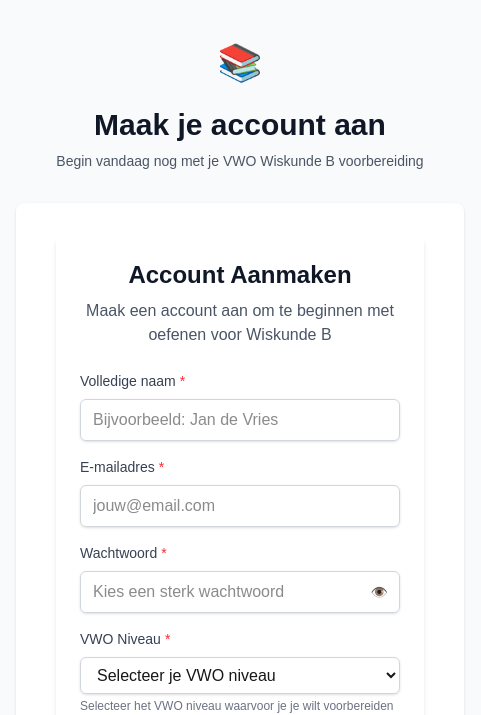
Test: RegisterPage › handles network errors gracefully
Fill out the form
Type "Test User" into the field labelled "Volledige naam*".
click(240, 420); type("Test User")  # box [80,399,400,441]
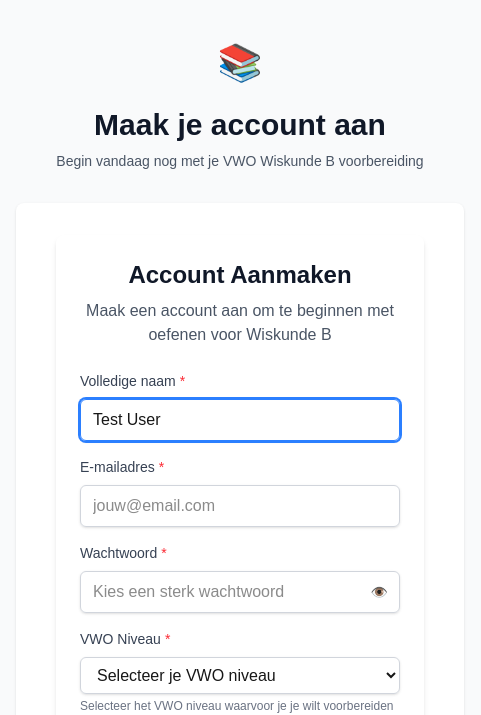
Type "test@example.com" into the field labelled "E-mailadres*".
click(240, 506); type("test@example.com")  # box [80,485,400,527]
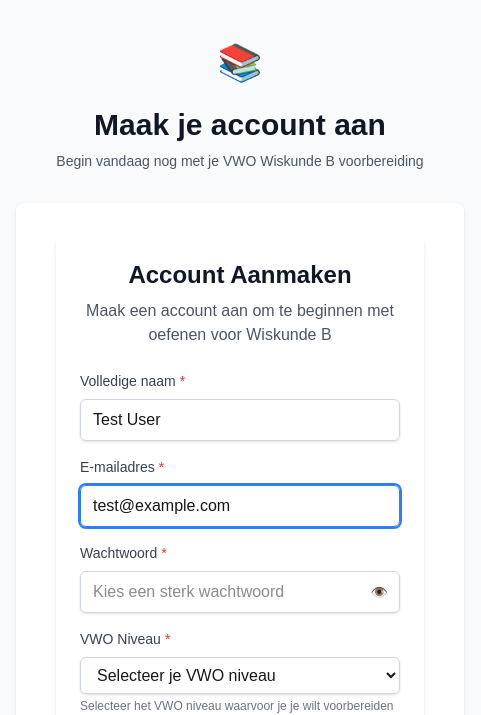
Type "TestPass123" into the password field labelled "Wachtwoord*".
click(240, 592); type("TestPass123")  # box [80,571,400,613]
(page scrolled)
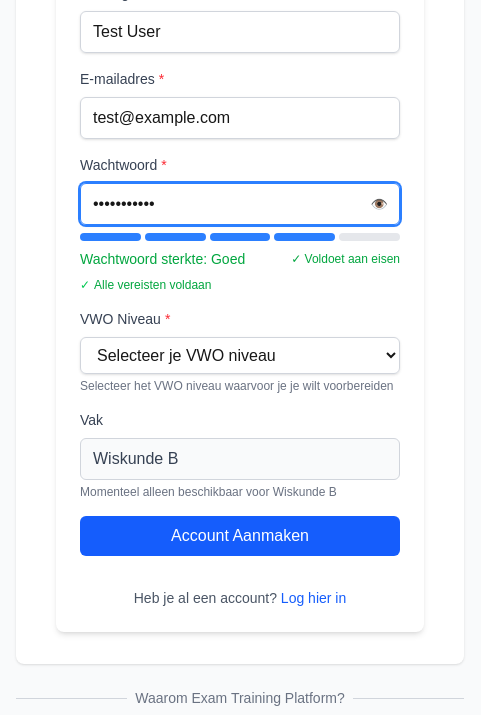
Select "VWO 6" in the dropdown labelled "VWO Niveau*" at [240, 356], box [80,337,400,374]
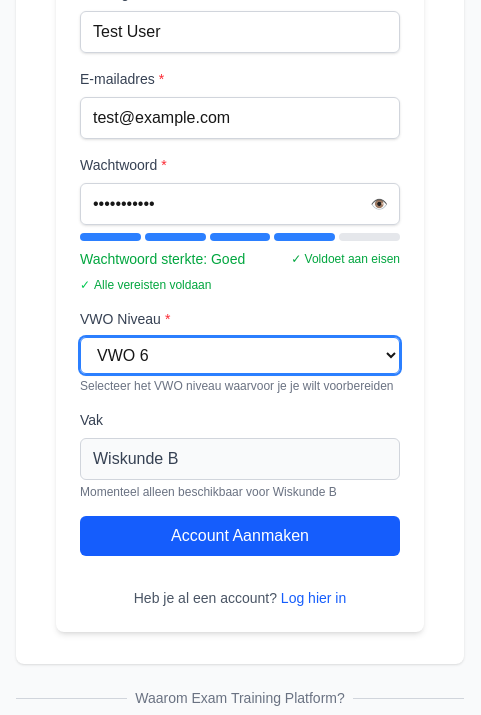
Submit the form
Click the button "Account Aanmaken".
click(240, 536)  # box [80,516,400,556]
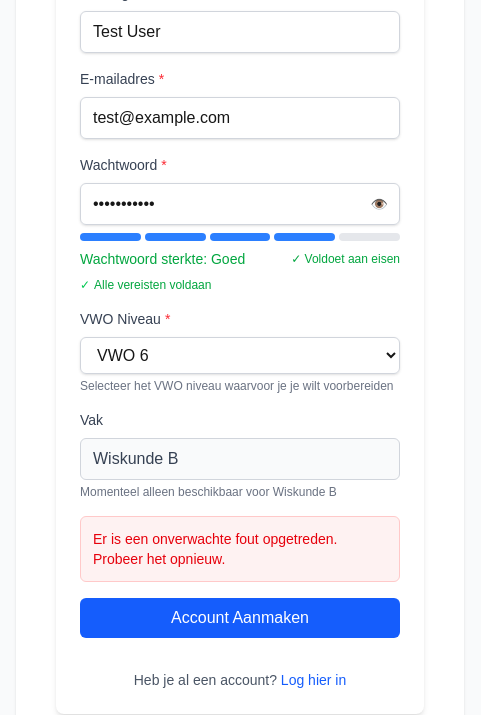
Result: the text "Er is een onverwachte fout opgetreden. Probeer het opnieuw." is shown at [93,531,337,567]
